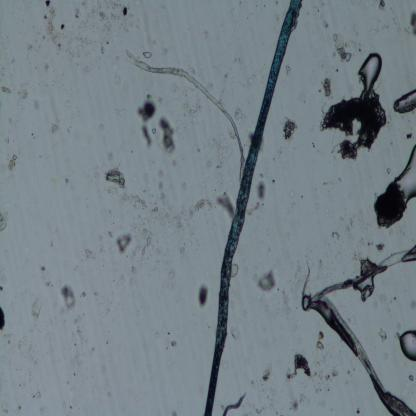Air bubble: (357, 47, 385, 100), (396, 144, 416, 206), (397, 327, 416, 364), (393, 87, 416, 115)
Background material: (114, 183, 212, 259), (36, 0, 118, 69), (320, 97, 389, 167), (132, 102, 180, 160), (371, 182, 409, 236), (329, 24, 356, 67), (284, 347, 314, 384), (53, 284, 80, 314), (214, 191, 236, 222), (23, 293, 47, 320), (104, 165, 127, 192), (109, 228, 133, 252), (222, 393, 246, 416), (316, 364, 338, 389), (280, 113, 297, 145), (319, 73, 337, 100), (254, 271, 277, 292), (283, 390, 302, 414), (14, 85, 30, 111), (254, 179, 269, 205), (198, 283, 213, 306), (313, 326, 327, 350), (320, 226, 340, 242), (405, 10, 416, 39), (0, 210, 12, 235), (0, 303, 11, 329), (116, 4, 131, 22), (0, 80, 13, 99), (227, 256, 238, 276), (49, 118, 60, 138), (10, 156, 22, 173), (373, 242, 387, 255), (140, 47, 154, 59), (378, 330, 390, 342), (233, 325, 242, 339), (36, 263, 46, 273), (264, 373, 272, 384), (379, 0, 385, 12), (3, 134, 10, 144), (173, 340, 181, 348), (408, 132, 413, 142), (45, 281, 50, 286)
Cellulose filter fibre: (300, 245, 416, 416), (122, 37, 245, 178)
Microfibre: (201, 0, 304, 416)
